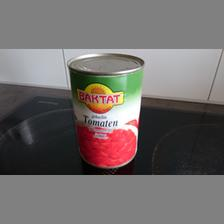Tomatensauce: (66, 51, 144, 168)
